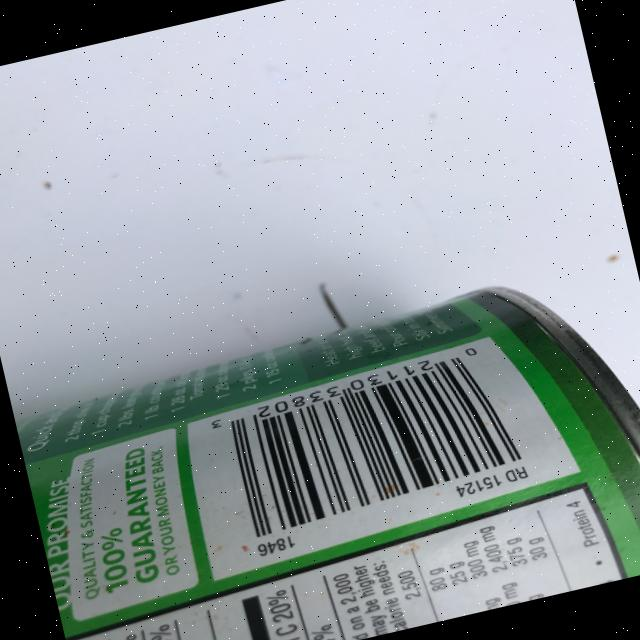metal: (10, 250, 640, 640)
